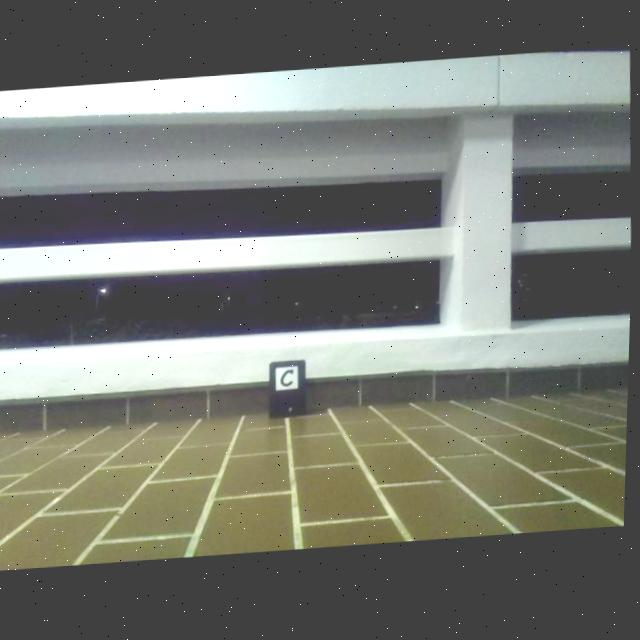C: (282, 370, 297, 390)
